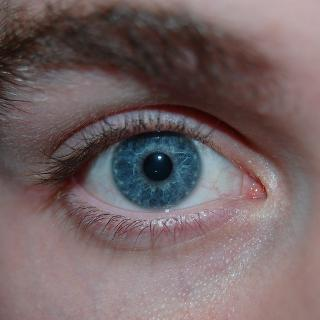pupil: (143, 152, 172, 180)
